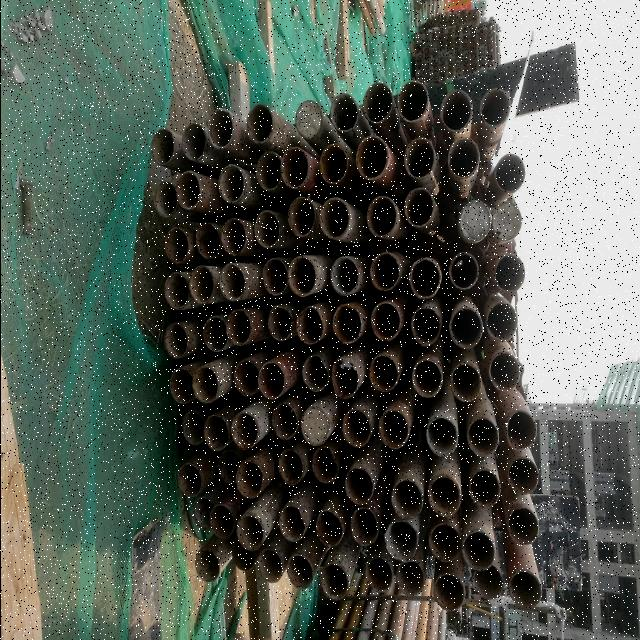pipe: (352, 132, 392, 186), (483, 298, 521, 348), (383, 514, 421, 564), (438, 88, 474, 138), (401, 184, 437, 234), (405, 255, 443, 302), (446, 136, 483, 184), (422, 416, 460, 462), (485, 348, 521, 396), (447, 304, 483, 352), (395, 78, 431, 126), (388, 475, 424, 523), (502, 409, 540, 454), (427, 472, 461, 522), (317, 194, 352, 242), (459, 528, 497, 572), (402, 136, 438, 182), (478, 84, 512, 132), (466, 466, 502, 511), (409, 356, 445, 401), (457, 199, 492, 245), (300, 401, 332, 451), (493, 153, 529, 197), (465, 416, 501, 460), (468, 558, 504, 602), (430, 570, 466, 614), (284, 192, 317, 240), (448, 361, 483, 406), (427, 521, 462, 566), (489, 200, 523, 246), (364, 196, 398, 242), (370, 299, 404, 345), (346, 504, 380, 550), (330, 300, 364, 346), (505, 504, 540, 548), (361, 82, 396, 126), (378, 407, 410, 455), (286, 252, 318, 300), (252, 148, 284, 196), (493, 250, 526, 296), (277, 145, 310, 191), (315, 141, 349, 185), (292, 303, 326, 347), (226, 408, 260, 452), (329, 252, 360, 300), (410, 304, 442, 350), (369, 251, 401, 297), (342, 464, 374, 510), (340, 404, 372, 450), (328, 357, 360, 403), (327, 89, 359, 135), (205, 106, 237, 152), (509, 568, 542, 612), (221, 306, 253, 351), (506, 456, 540, 498), (367, 352, 401, 394), (243, 102, 275, 146), (447, 250, 480, 292), (318, 560, 351, 602), (164, 364, 197, 406), (300, 349, 330, 394), (310, 443, 340, 488), (394, 558, 426, 600), (276, 504, 308, 546), (160, 271, 192, 313), (234, 510, 266, 552), (364, 552, 394, 596), (256, 360, 286, 404), (186, 263, 216, 307), (234, 458, 264, 502), (293, 100, 324, 142), (258, 255, 289, 297), (159, 320, 190, 362), (232, 358, 263, 400), (215, 163, 245, 206), (174, 168, 202, 214), (217, 216, 249, 256), (188, 364, 220, 404), (191, 545, 223, 585), (275, 446, 305, 488), (217, 262, 247, 304), (213, 446, 243, 488), (269, 402, 300, 442), (314, 509, 344, 549), (284, 552, 314, 592), (252, 208, 282, 248), (200, 314, 230, 354), (266, 304, 294, 346), (180, 122, 208, 164), (194, 220, 222, 262), (147, 127, 176, 167), (179, 404, 205, 448), (190, 490, 216, 534), (150, 180, 178, 220), (176, 460, 204, 500), (230, 534, 258, 574), (164, 225, 190, 268), (207, 500, 234, 540), (202, 414, 230, 452), (255, 548, 283, 584)
